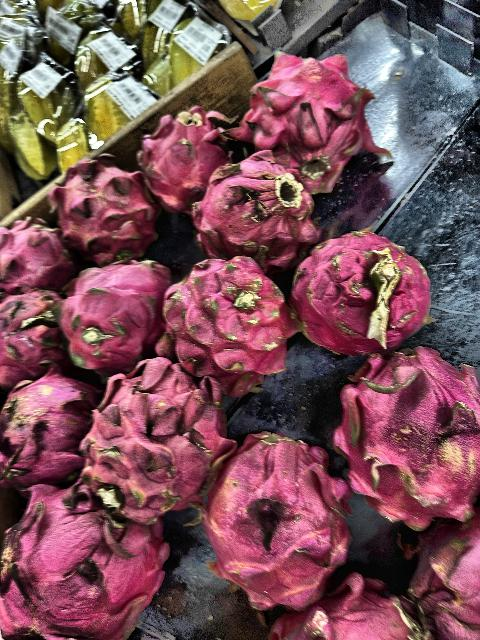buah-naga-belum-matang: (332, 342, 480, 524), (158, 258, 296, 392)
buah-naga-matang: (1, 481, 174, 637), (82, 365, 232, 523), (220, 439, 341, 597), (238, 46, 366, 190), (292, 240, 432, 348), (46, 165, 172, 262), (193, 166, 315, 260), (59, 279, 180, 373), (4, 378, 92, 482), (137, 112, 231, 206), (0, 289, 70, 381), (0, 216, 78, 294)
